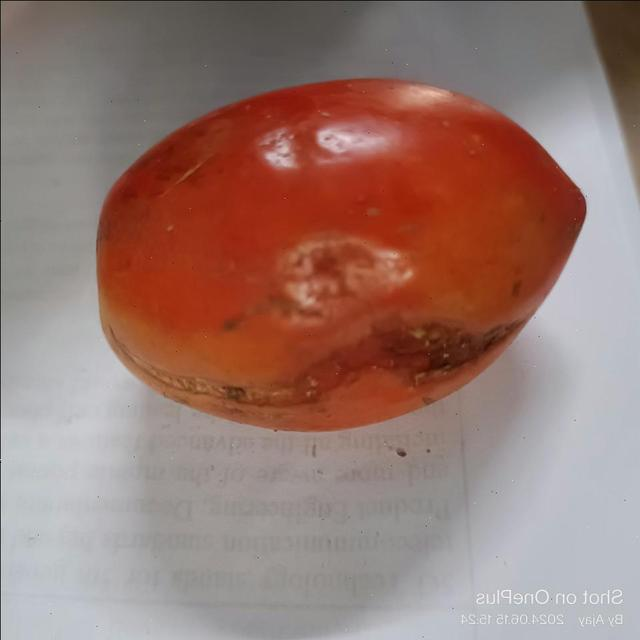Cracking Fruit: (131, 154, 468, 364)
